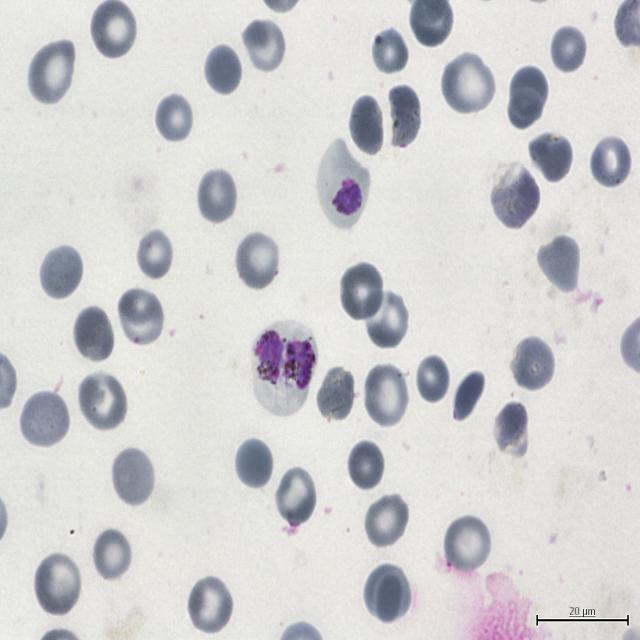red blood cell: (489, 159, 542, 231), (441, 50, 496, 116), (27, 38, 77, 108), (33, 550, 83, 618), (362, 362, 411, 429), (18, 388, 70, 450), (78, 370, 129, 433), (116, 285, 166, 349), (363, 561, 412, 625), (443, 512, 492, 575), (362, 288, 411, 350), (186, 574, 234, 637), (338, 260, 386, 323), (505, 64, 550, 131), (234, 229, 282, 291), (90, 0, 138, 61), (273, 464, 318, 528), (509, 334, 556, 394), (535, 233, 581, 294), (71, 304, 116, 366), (363, 491, 410, 550), (241, 16, 287, 75), (195, 165, 239, 226), (110, 445, 155, 504), (588, 133, 634, 190), (384, 82, 423, 149), (526, 130, 574, 184), (314, 364, 356, 425), (346, 92, 386, 156), (40, 246, 85, 300), (91, 527, 134, 582), (154, 91, 196, 145), (491, 400, 530, 458), (202, 42, 243, 96), (136, 226, 175, 282), (346, 438, 386, 492), (369, 24, 409, 77), (236, 438, 276, 488), (549, 23, 587, 75), (450, 368, 486, 421), (416, 355, 454, 403)
trophozoite: (252, 319, 319, 416), (317, 140, 370, 230)
